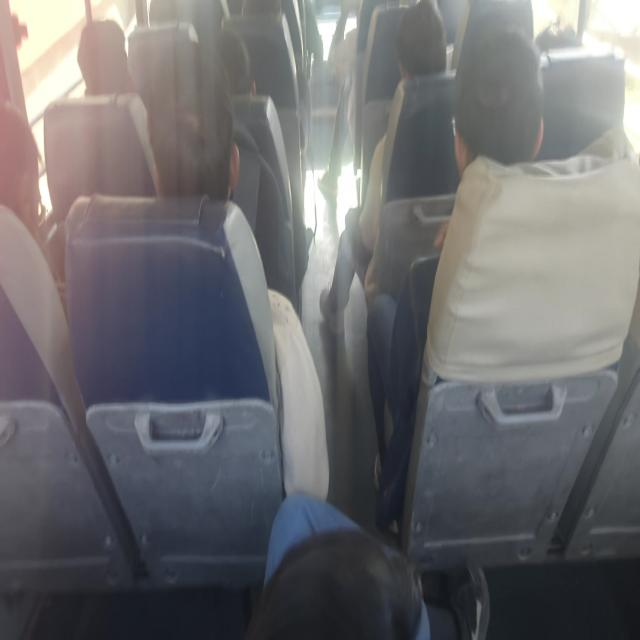person: (262, 496, 438, 640), (145, 67, 242, 206), (451, 36, 536, 187), (0, 95, 48, 232), (179, 19, 260, 96), (392, 9, 460, 94), (62, 14, 124, 98), (523, 5, 597, 54)
